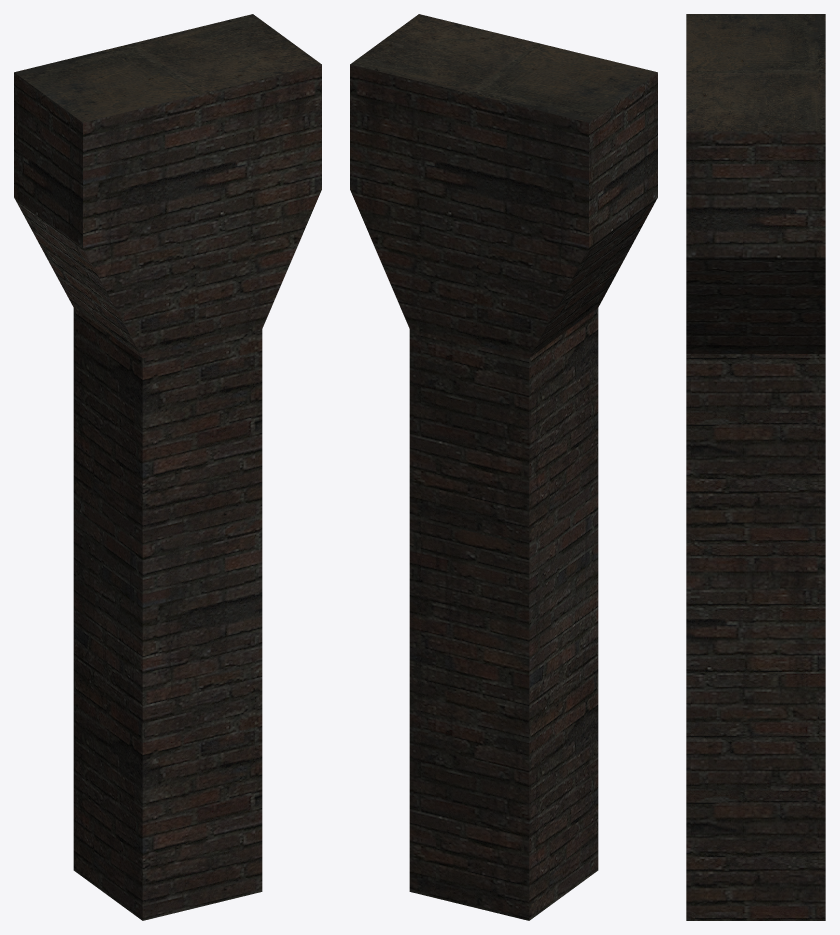
Rendered from pillar_hs_7.dae.
3 views of the same model, side by side, from view 1: azimuth 30°, elevation 25°; view 2: azimuth 150°, elevation 25°; view 3: azimuth 270°, elevation 25° (orthographic).
Parts seen in each view (by area): view 1: pillar_hs_7; view 2: pillar_hs_7; view 3: pillar_hs_7.
Boxes of the visible parts, x1,y1,x2,y2 form: pillar_hs_7: [14, 14, 321, 920]; pillar_hs_7: [350, 14, 657, 920]; pillar_hs_7: [686, 14, 825, 920].
Size of the model in its own units: 2 by 1 by 6.5.
2 materials, 2 textured.
